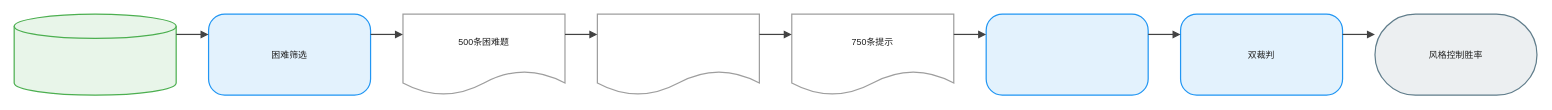
This 1552x110 diagram has some shape labels left out. Each missing label, with the centre of its shape:
"250条创意题" belongs at point (678, 54).
"Arena日志" belongs at point (94, 54).
"模型对基线" belongs at point (1066, 54).
